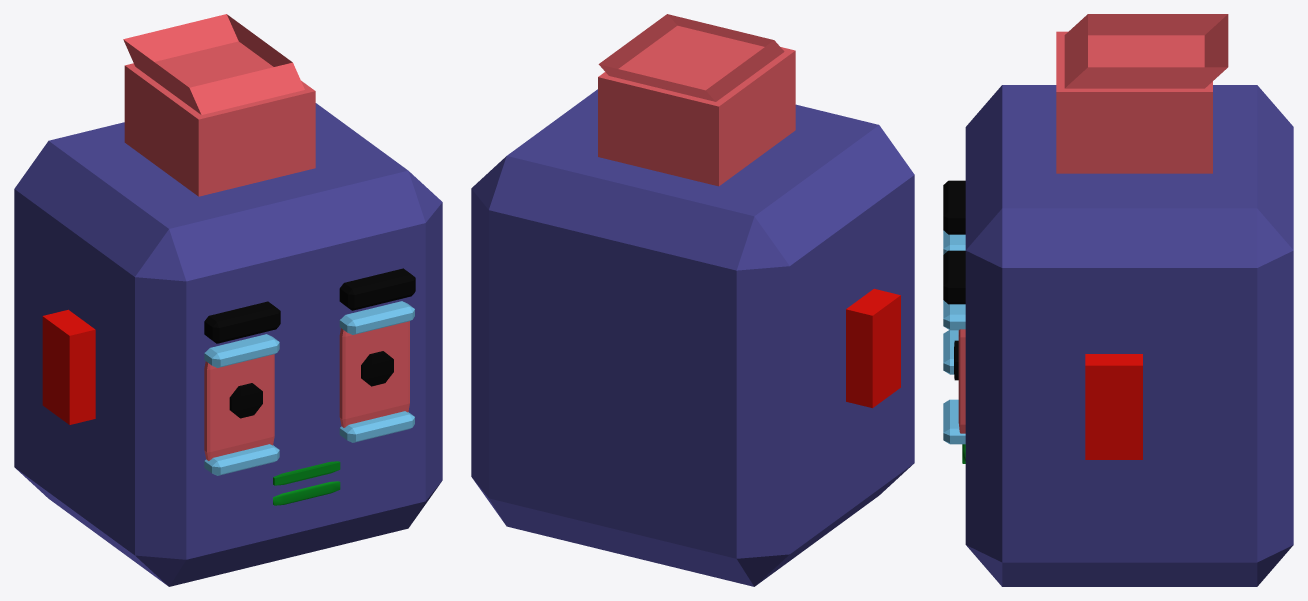
The model's file is gunn.glb.
3 views of the same model, side by side, from view 1: azimuth 30°, elevation 25°; view 2: azimuth 150°, elevation 25°; view 3: azimuth 270°, elevation 25° (orthographic). The views are drawn at different scales.
Visible parts, largest first — view 1: head, Cube.001, Cube.002, Cube, EyeBrown, lip_up, lip_up.001, eyes, eye, mouth, mouth'; view 2: head, Cube.001, Cube; view 3: head, Cube.001, Cube, EyeBrown, lip_up.001, lip_up, Cube.002.
Part boxes in pixels (left/top/right/bottom): head: left=14, top=103, right=442, bottom=586; Cube.001: left=123, top=14, right=315, bottom=196; Cube.002: left=204, top=321, right=409, bottom=460; Cube: left=42, top=309, right=95, bottom=424; EyeBrown: left=204, top=268, right=415, bottom=343; lip_up: left=204, top=301, right=414, bottom=367; lip_up.001: left=204, top=411, right=414, bottom=475; eyes: left=229, top=383, right=262, bottom=418; eye: left=361, top=351, right=393, bottom=386; mouth: left=273, top=461, right=340, bottom=485; mouth': left=273, top=481, right=340, bottom=505; head: left=471, top=89, right=914, bottom=586; Cube.001: left=598, top=14, right=795, bottom=186; Cube: left=846, top=288, right=900, bottom=408; head: left=965, top=85, right=1293, bottom=586; Cube.001: left=1056, top=14, right=1228, bottom=173; Cube: left=1085, top=354, right=1142, bottom=459; EyeBrown: left=943, top=180, right=965, bottom=304; lip_up.001: left=943, top=330, right=965, bottom=444; lip_up: left=943, top=230, right=965, bottom=330; Cube.002: left=958, top=329, right=965, bottom=433.
Size of the model in its own units: 0.9025 by 1.1 by 0.7278.
